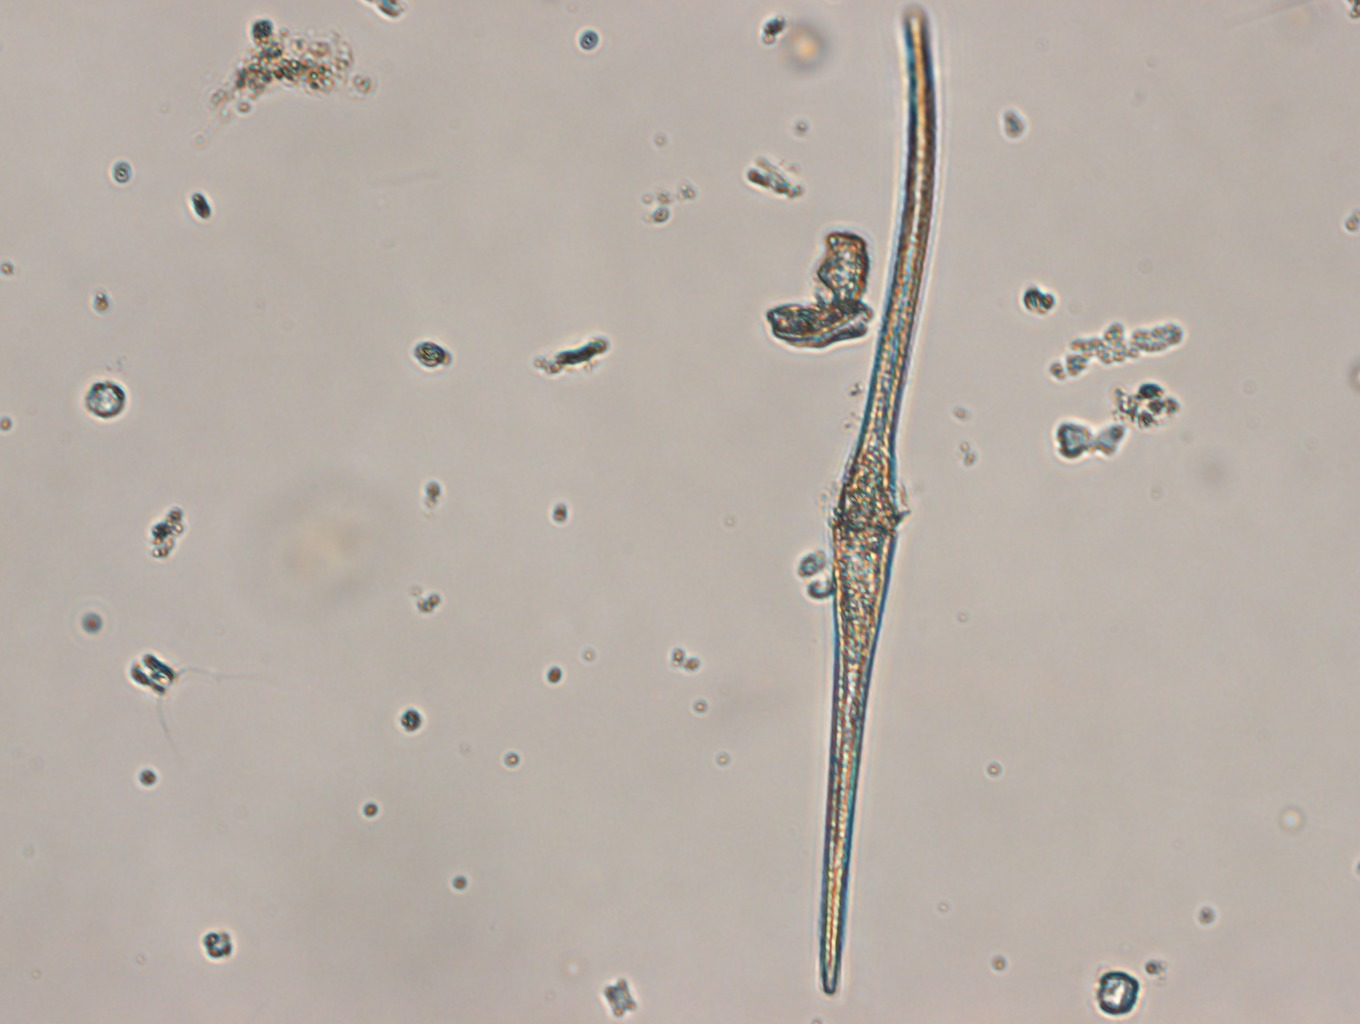ceratium fusus: (787, 3, 953, 997)
